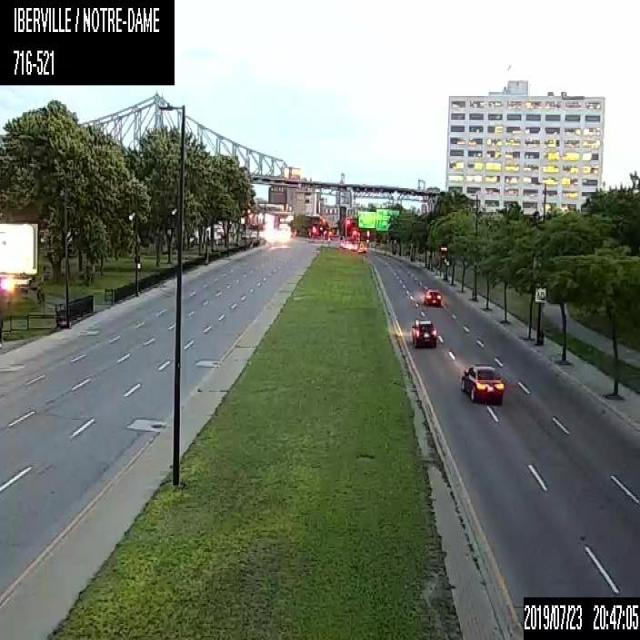vehicle: (458, 359, 506, 404), (409, 317, 437, 348), (421, 286, 441, 306)
